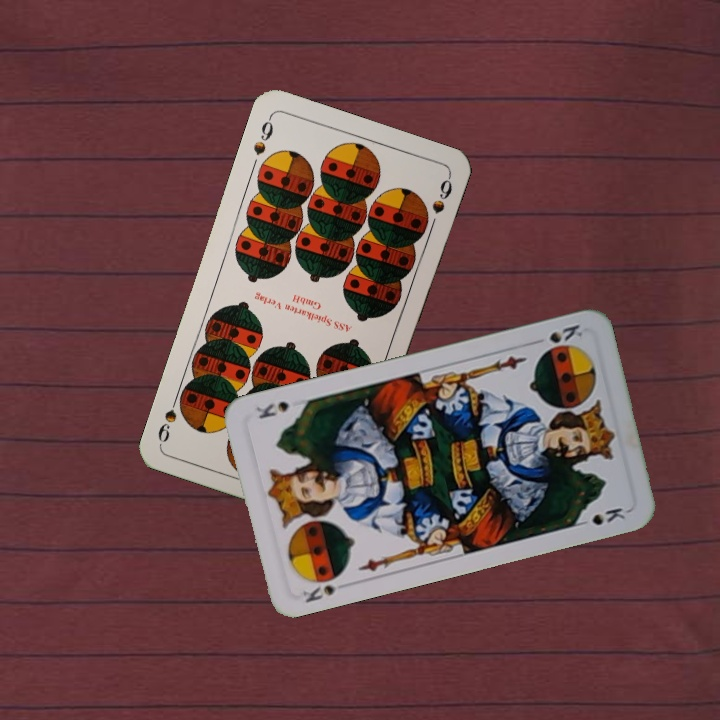S9: (249, 112, 276, 158)
SK: (536, 320, 585, 355), (294, 581, 339, 606)
